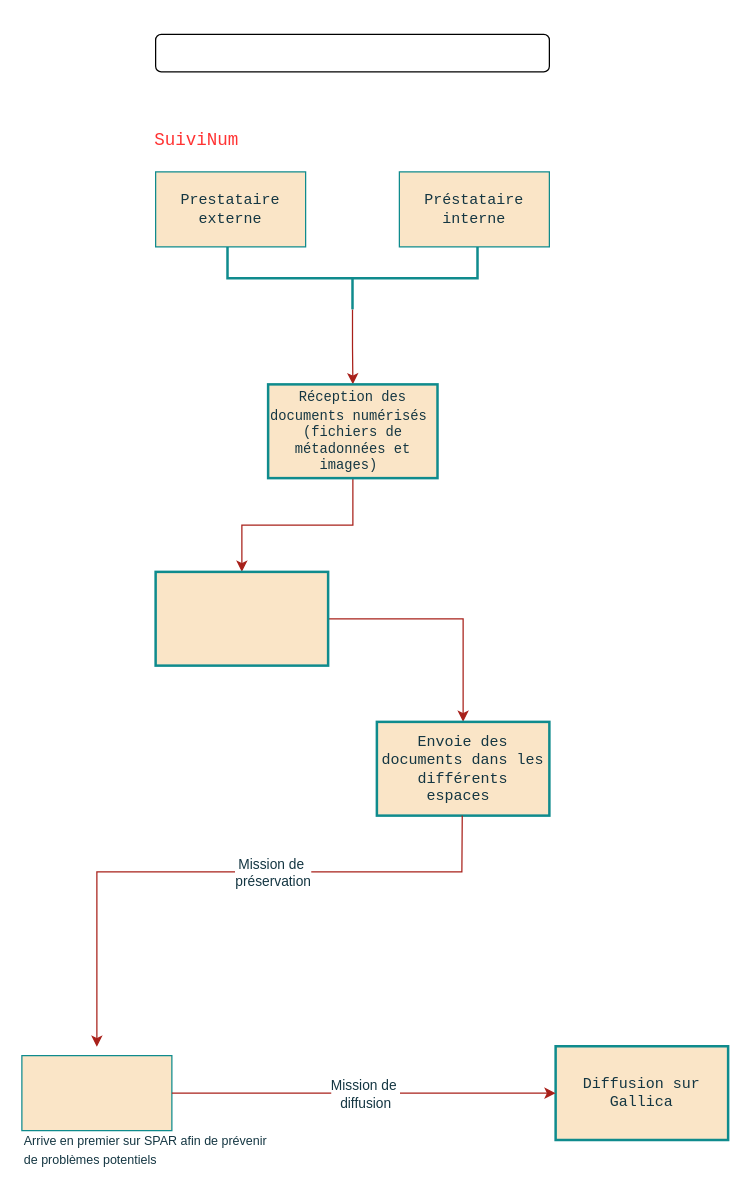
The diagram is 751 pixels wide and 1190 high, and some of its shapes have lost their labels. Each missing label, with the centre of its shape:
"Envoie des fichiers vers SPAR" goes at [96,1092].
"Schéma de la Chaine d'entrée" goes at [351,52].
"Vérification des métadonnées et du référencement catalogue" goes at [241,618].
